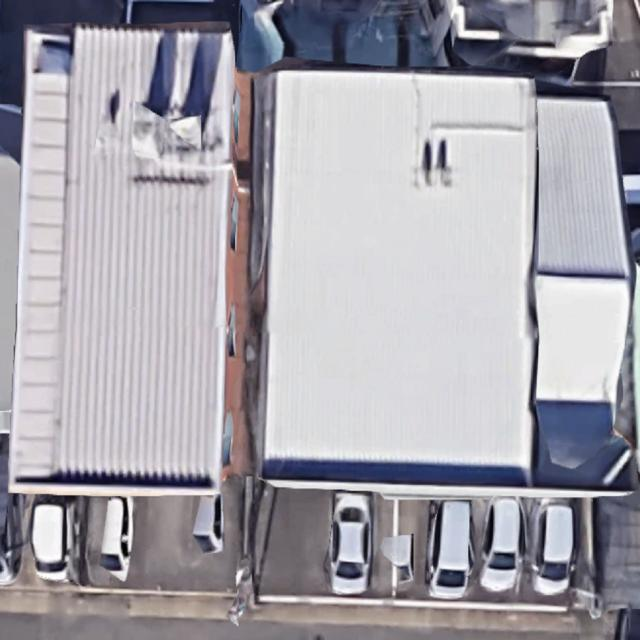Batiment: (251, 71, 536, 485), (9, 24, 234, 495), (538, 99, 629, 276)
